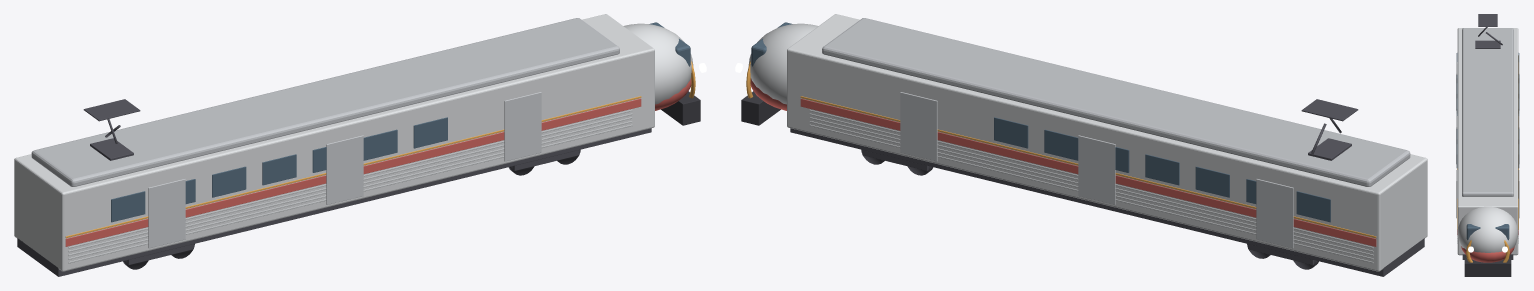
Rendered from train_emu800.glb.
The picture shows the model from 3 angles, left to right: view 1: azimuth 30°, elevation 25°; view 2: azimuth 150°, elevation 25°; view 3: azimuth 270°, elevation 25°; orthographic projection. The views are drawn at different scales.
Visible parts, largest first — view 1: car_body, car_roof, waist_blue_b, underframe, nose_cap, door_b-6.5, door_b-0.5, door_b5.5, waist_yellow_b, corr_3_b, corr_2_b, corr_4_b (+10 smaller); view 2: car_body, car_roof, waist_blue_a, underframe, nose_cap, door_a-6.5, door_a-0.5, door_a5.5, waist_yellow_a, corr_3_a, corr_1_a, corr_2_a (+10 smaller); view 3: car_roof, car_body, nose_cap, nose_skirt, nose_blue, windshield, panto_shoe, panto_base, waist_yellow_a, corr_4_b, smile, door_a5.5 (+6 smaller).
Part boxes in pixels (left/top/right/bottom): car_body: left=14, top=14, right=654, bottom=271; car_roof: left=31, top=18, right=619, bottom=186; waist_blue_b: left=65, top=98, right=641, bottom=246; underframe: left=17, top=128, right=651, bottom=276; nose_cap: left=623, top=23, right=693, bottom=104; door_b-6.5: left=148, top=179, right=185, bottom=248; door_b-0.5: left=326, top=135, right=363, bottom=204; door_b5.5: left=504, top=92, right=541, bottom=161; waist_yellow_b: left=65, top=96, right=641, bottom=238; corr_3_b: left=68, top=113, right=632, bottom=252; corr_2_b: left=68, top=117, right=632, bottom=255; corr_4_b: left=68, top=109, right=632, bottom=248; car_body: left=787, top=14, right=1427, bottom=271; car_roof: left=822, top=18, right=1410, bottom=186; waist_blue_a: left=800, top=98, right=1376, bottom=246; underframe: left=790, top=128, right=1424, bottom=276; nose_cap: left=748, top=23, right=818, bottom=104; door_a-6.5: left=1256, top=179, right=1293, bottom=248; door_a-0.5: left=1078, top=135, right=1115, bottom=204; door_a5.5: left=900, top=92, right=937, bottom=161; waist_yellow_a: left=800, top=96, right=1376, bottom=238; corr_3_a: left=809, top=113, right=1373, bottom=252; corr_1_a: left=809, top=121, right=1373, bottom=259; corr_2_a: left=809, top=117, right=1373, bottom=255; car_roof: left=1462, top=28, right=1513, bottom=196; car_body: left=1457, top=28, right=1518, bottom=255; nose_cap: left=1457, top=206, right=1518, bottom=252; nose_skirt: left=1464, top=258, right=1511, bottom=276; nose_blue: left=1461, top=246, right=1514, bottom=262; windshield: left=1466, top=224, right=1509, bottom=240; panto_shoe: left=1478, top=14, right=1497, bottom=26; panto_base: left=1475, top=40, right=1500, bottom=48; waist_yellow_a: left=1518, top=55, right=1518, bottom=229; corr_4_b: left=1457, top=63, right=1457, bottom=233; smile: left=1466, top=240, right=1509, bottom=262; door_a5.5: left=1518, top=170, right=1519, bottom=218.
Size of the model in its own units: 22 by 4.77 by 2.98.
